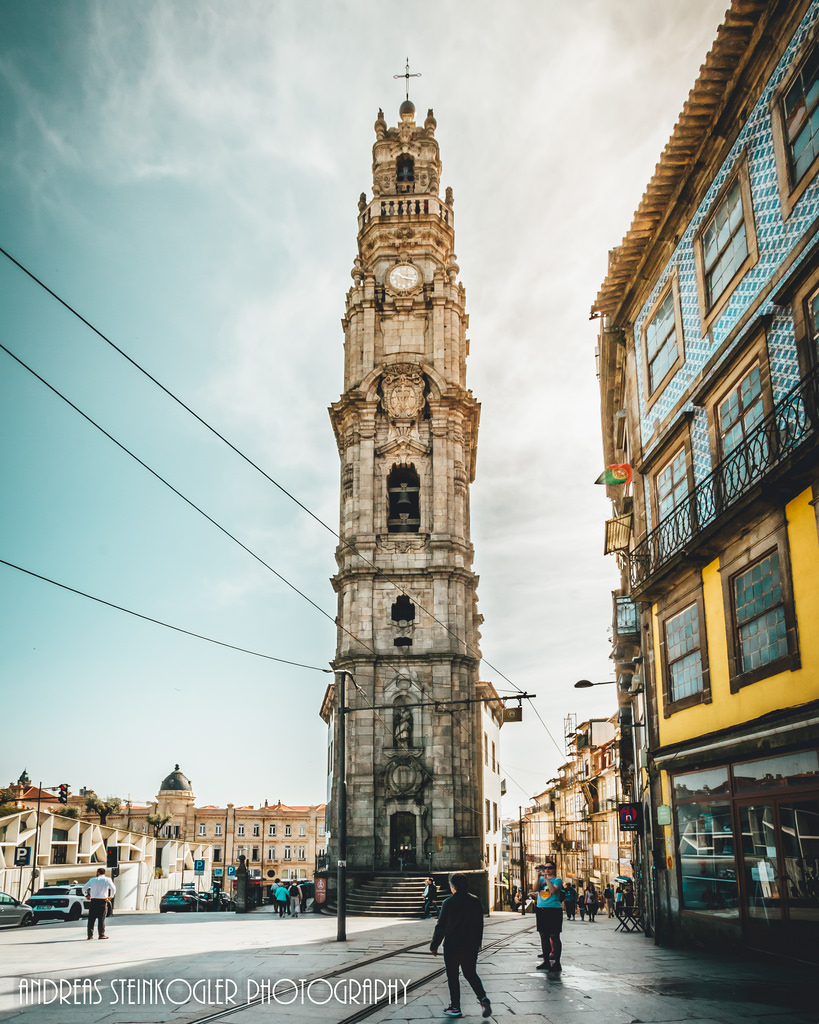clerigos: (329, 55, 490, 899)
